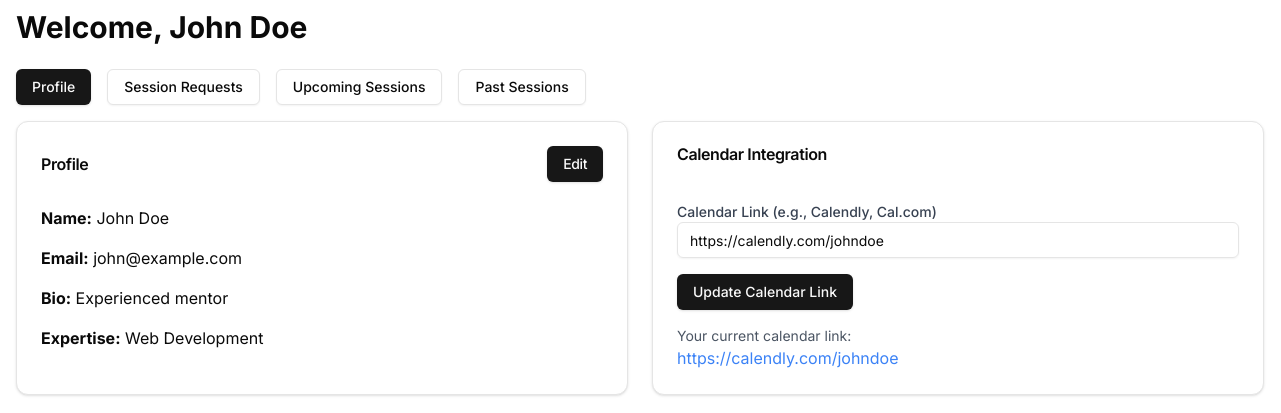
Test: MentorDashboard › switches between tabs
Click the button "Session Requests".
click(184, 87)  # box [107, 69, 260, 105]
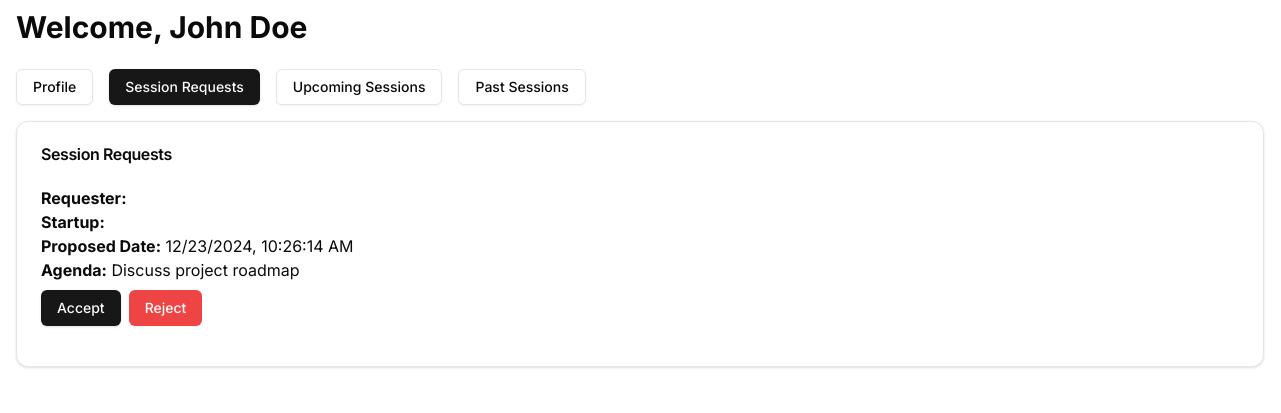
Expected: the text "Discuss project roadmap" is shown, [111, 260, 300, 280]
Click the button "Upcoming Sessions".
click(359, 87)  # box [276, 69, 442, 105]
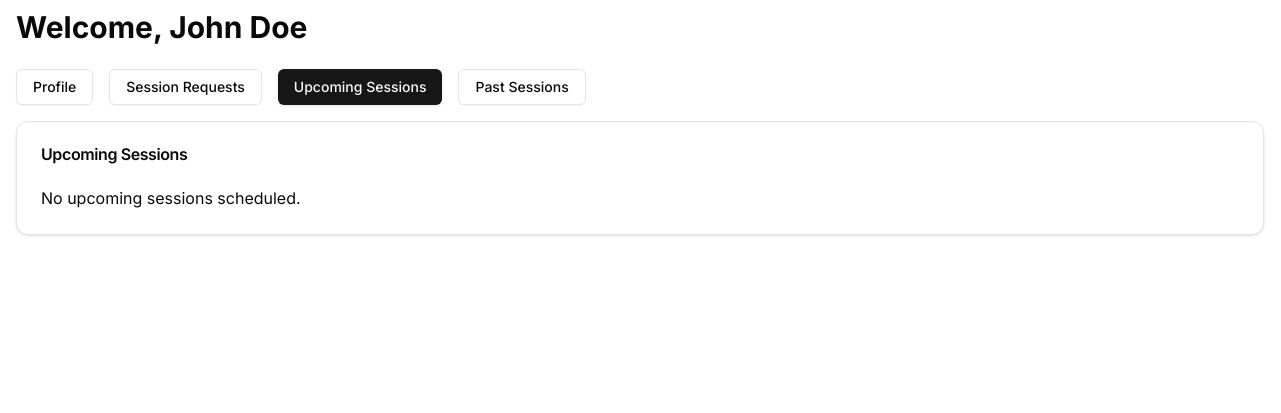
Expected: the text "No upcoming sessions scheduled." is shown, [41, 188, 301, 208]
